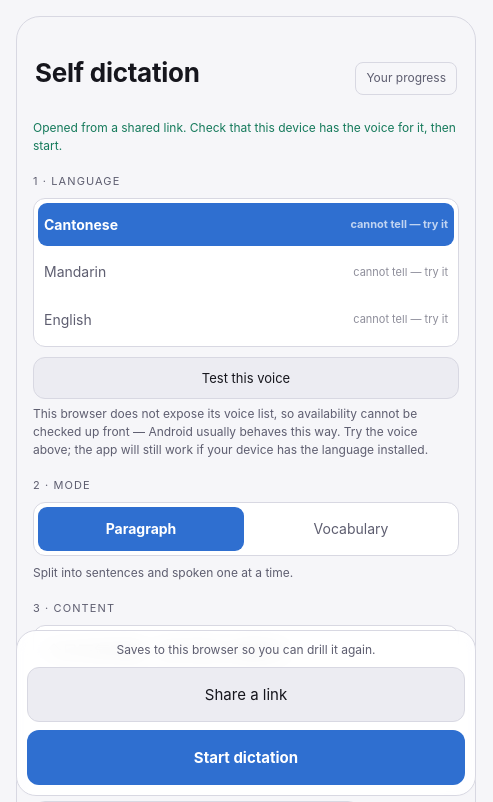
Test: App › does not keep a Run that nothing in it was answered
Expected: the text "Opened from a shared link" is shown, [33, 120, 456, 153]
Click the button "Start dictation": coordinates (246, 757) [27, 730, 465, 785]
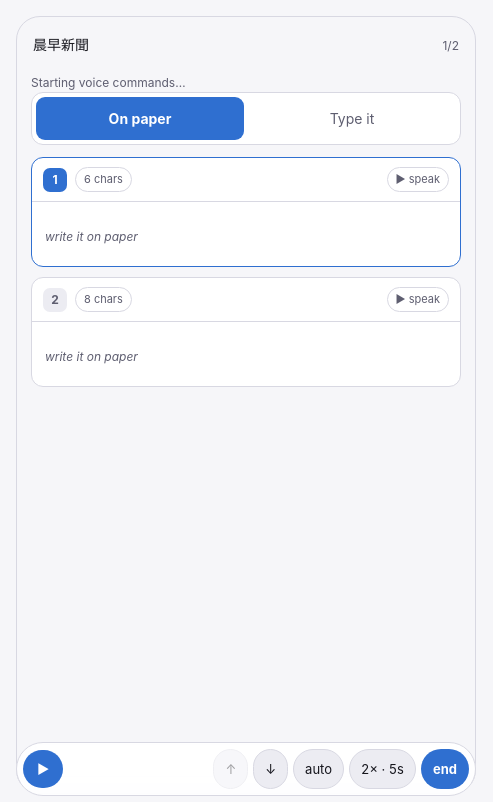
Click the button "end": coordinates (445, 769) [421, 749, 469, 789]
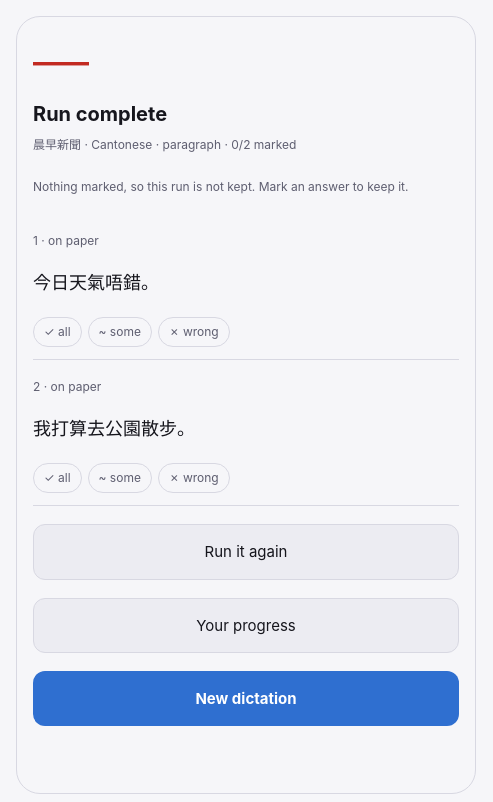
Expected: the button "Run it again" is shown, [33, 524, 459, 580]
